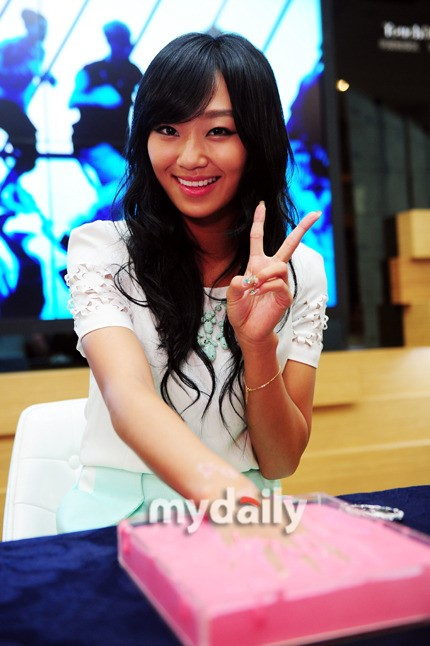face: (146, 62, 246, 218)
hand: (225, 198, 320, 339)
